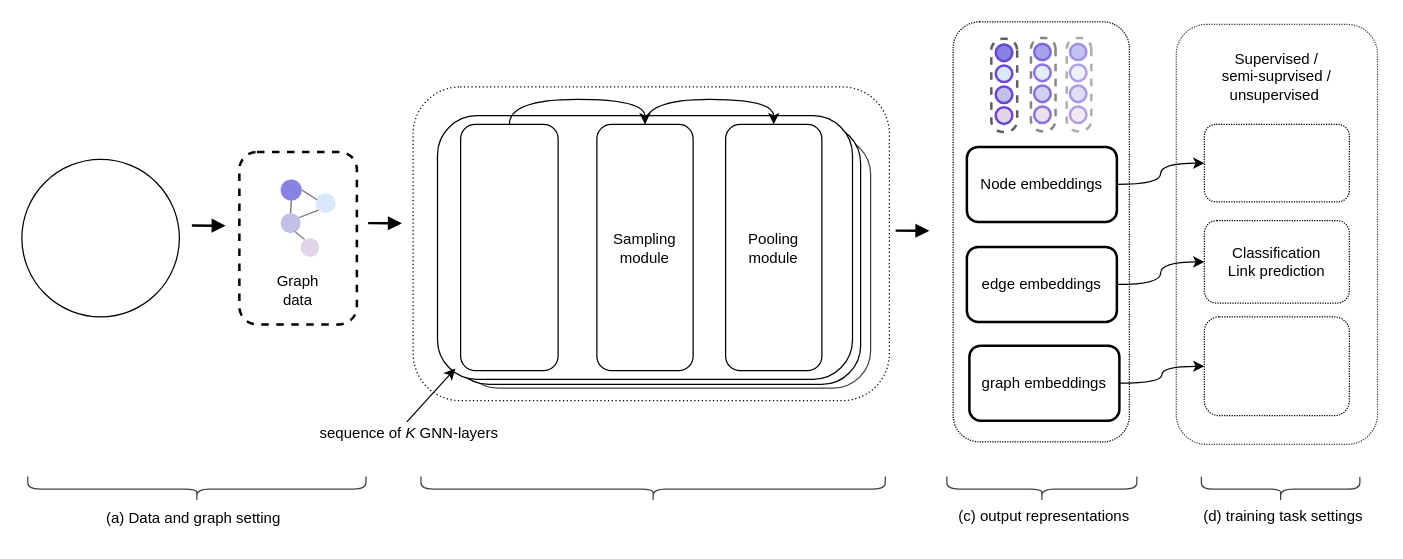
Image size: 1403x559. Some labels were removed from this diagram. The shapes that lost their labels are listed below. From the top down, each one's centre as x and y in pixels, then its label:
At pixel 1276 162: "Classification Regression Clustering".
At pixel 100 237: "Research object".
At pixel 508 247: "Propagation module".
At pixel 1276 366: "Classification Regression Matching".
At pixel 652 488: "(b) Graph Neural Network model".
